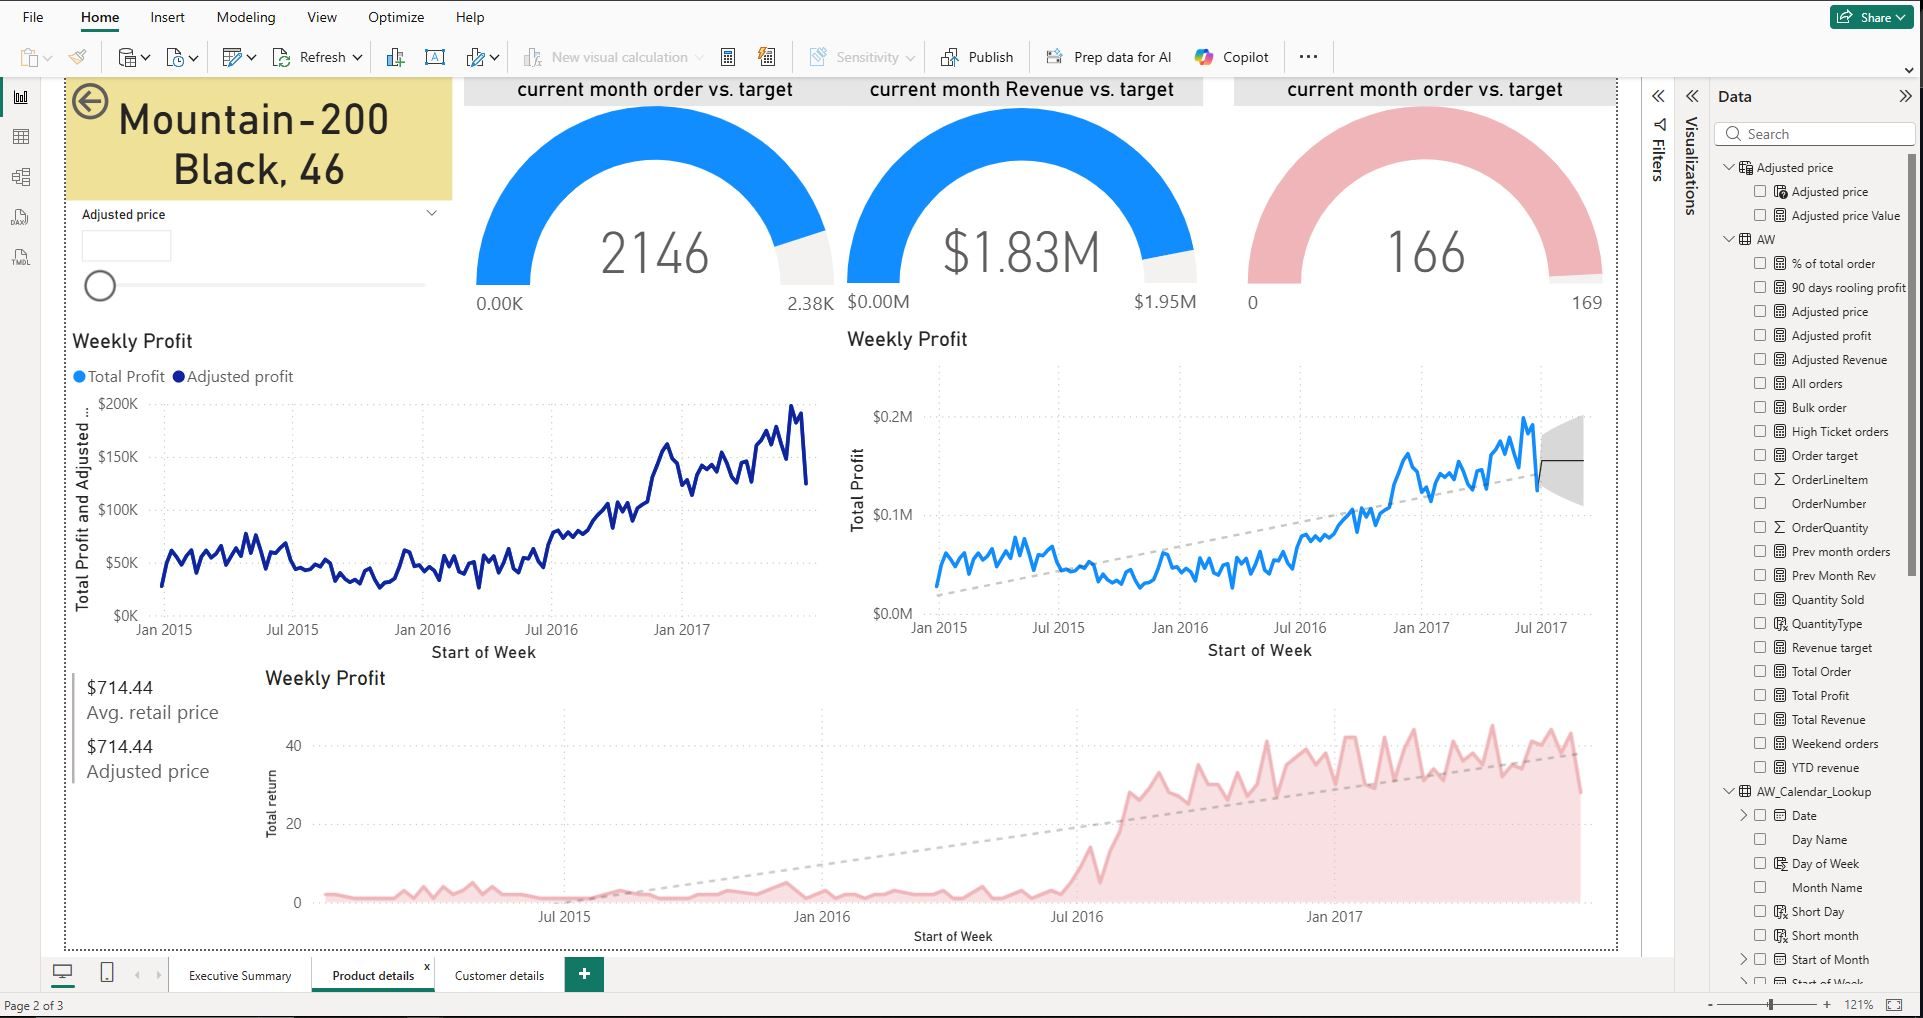

Layout of this report page (visuals, bound fields, positions):
{"tool":"powerbi","page":{"name":"Product details ","canvas":[1280,720],"ordinal":1},"visuals":[{"type":"lineChart","title":"Weekly Profit ","fields":{"Y":["AW.Total Profit"],"Category":["AW_Calendar_Lookup.Start of Week"]},"box":[640,206.5,640,279.8],"z":0},{"type":"areaChart","title":"Weekly Profit ","fields":{"Category":["AW_Calendar_Lookup.Start of Week"],"Y":["AW_Returns_Data.Total return"]},"box":[159.7,486.3,1120.3,234.1],"z":1000},{"type":"card","fields":{"Values":["Min(AW_Product_Lookup.ProductName)"]},"box":[0,0,319.4,102.1],"z":2000},{"type":"actionButton","box":[0,0,100,40],"z":3000},{"type":"gauge","title":"current month order vs. target ","fields":{"Y":["AW.Total Order"],"MaxValue":["AW.Order target"]},"box":[329,0,315.8,207.7],"z":4000},{"type":"gauge","title":"current month Revenue vs. target ","fields":{"Y":["AW.Total Revenue"],"MaxValue":["AW.Revenue target"]},"box":[640,0,299,207.7],"z":5000},{"type":"gauge","title":"current month order vs. target ","fields":{"Y":["AW_Returns_Data.Total return"],"MaxValue":["AW_Returns_Data.Prev month returns"]},"box":[964.2,0,315.8,206.5],"z":6000},{"type":"slicer","fields":{"Values":["Adjusted price.Adjusted price"]},"box":[0,102.1,319.4,105.7],"z":7000},{"type":"multiRowCard","fields":{"Values":["AW_Product_Lookup.Avg. retail price","AW.Adjusted price"]},"box":[0,487.5,160.9,145.3],"z":8000},{"type":"lineChart","title":"Weekly Profit ","fields":{"Y":["AW.Total Profit","AW.Adjusted profit"],"Category":["AW_Calendar_Lookup.Start of Week"]},"box":[0,207.7,640,279.8],"z":9000}]}

Visuals, with their boxes on the page's 1280x720 design canvas (x1, y1, x2, y2). These are canvas units, not pixel positions in the 1923x1018 screenshot, which may show the page scaled, cropped or inside an application window:
"Weekly Profit " lineChart: {"left": 640, "top": 206, "right": 1280, "bottom": 486}
"Weekly Profit " areaChart: {"left": 160, "top": 486, "right": 1280, "bottom": 720}
card - Min(AW_Product_Lookup.ProductName): {"left": 0, "top": 0, "right": 319, "bottom": 102}
actionButton: {"left": 0, "top": 0, "right": 100, "bottom": 40}
"current month order vs. target " gauge: {"left": 329, "top": 0, "right": 645, "bottom": 208}
"current month Revenue vs. target " gauge: {"left": 640, "top": 0, "right": 939, "bottom": 208}
"current month order vs. target " gauge: {"left": 964, "top": 0, "right": 1280, "bottom": 206}
slicer - Adjusted price.Adjusted price: {"left": 0, "top": 102, "right": 319, "bottom": 208}
multiRowCard - AW_Product_Lookup.Avg. retail price x AW.Adjusted price: {"left": 0, "top": 488, "right": 161, "bottom": 633}
"Weekly Profit " lineChart: {"left": 0, "top": 208, "right": 640, "bottom": 488}
